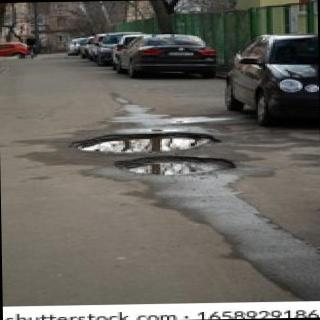pothole: (71, 130, 222, 154), (114, 157, 236, 176)
